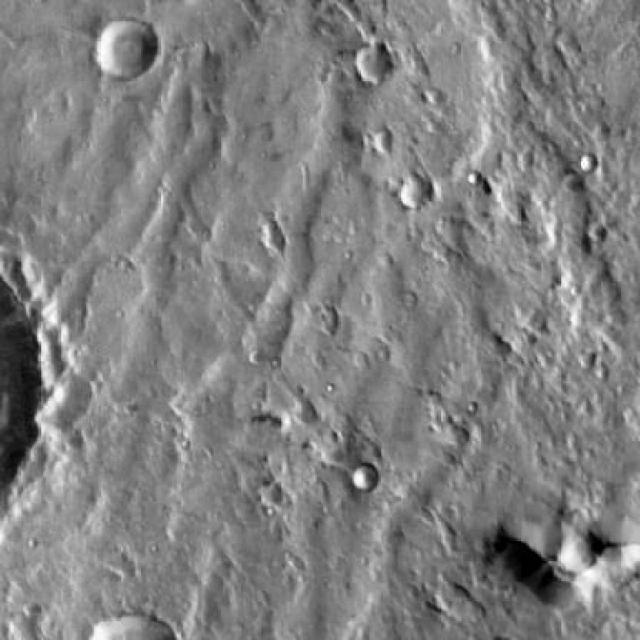crater: (92, 21, 154, 82), (360, 44, 394, 78), (408, 185, 435, 212), (351, 464, 377, 490), (262, 238, 283, 259), (373, 134, 393, 154), (578, 152, 598, 172), (591, 222, 609, 240), (580, 350, 598, 368), (268, 220, 286, 237)
